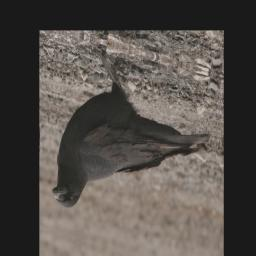Crow: (50, 40, 218, 247)
